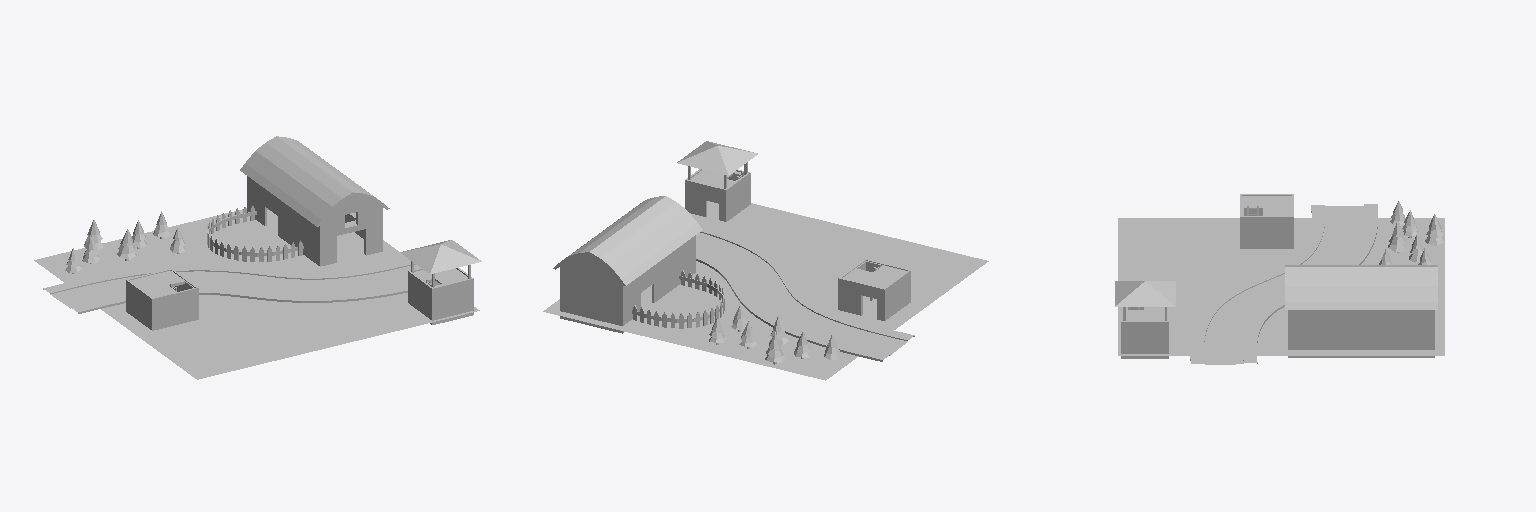
File: full_starting_mapBIGMODE.obj
3 renders of one model, left to right at view 1: azimuth 30°, elevation 25°; view 2: azimuth 150°, elevation 25°; view 3: azimuth 270°, elevation 25°, orthographic.
Visible parts, largest first — view 1: Plane, Barn, Road, Building2, Building1, Barn_Fence; view 2: Plane, Barn, Road, Building2, Building1, Barn_Fence; view 3: Plane, Barn, Road, Building2, Building1.
Part boxes in pixels (x1,y1,x2,y2): Plane: (34, 208, 479, 379); Barn: (240, 136, 389, 266); Road: (43, 259, 419, 313); Building2: (400, 240, 481, 324); Building1: (126, 268, 198, 330); Barn_Fence: (207, 205, 303, 261); Plane: (543, 201, 988, 380); Barn: (553, 196, 702, 333); Road: (696, 224, 914, 361); Building2: (677, 141, 757, 221); Building1: (838, 259, 910, 320); Barn_Fence: (632, 270, 724, 328); Plane: (1118, 218, 1444, 355); Barn: (1285, 265, 1437, 357); Road: (1190, 204, 1377, 364); Building2: (1115, 281, 1175, 358); Building1: (1240, 194, 1293, 248).
Size of the model in its own units: 128 by 28.15 by 112.